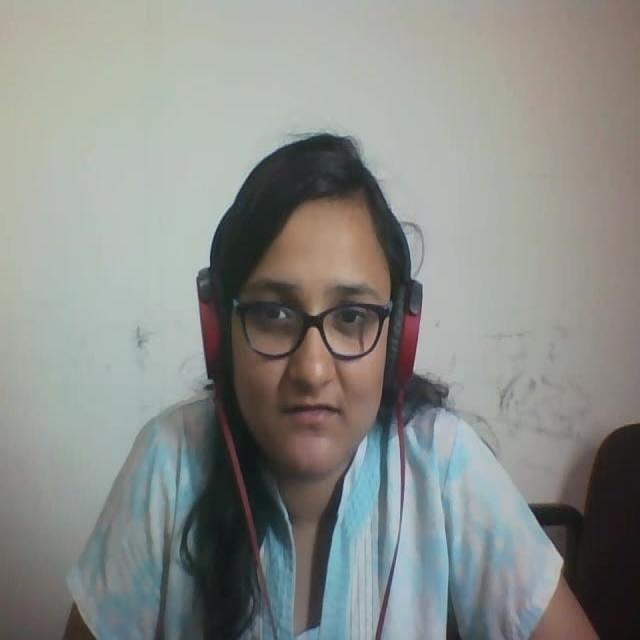Engaged: (178, 107, 462, 491)
